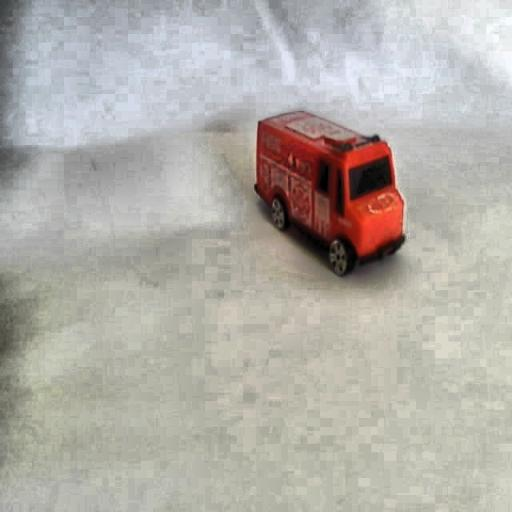fire_truck: (245, 104, 408, 282)
